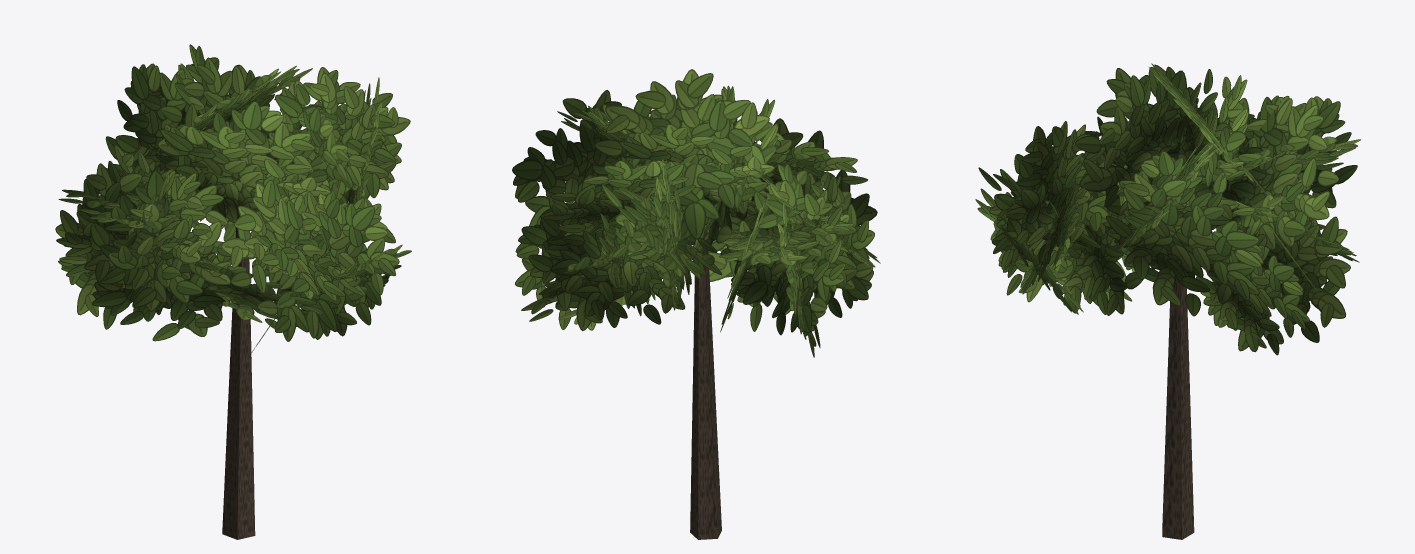
The model's file is quercia_2_leggero.glb.
3 views of the same model, side by side, from view 1: azimuth 30°, elevation 25°; view 2: azimuth 150°, elevation 25°; view 3: azimuth 270°, elevation 25° (orthographic). The views are drawn at different scales.
Parts seen in each view (by area): view 1: quercia_2_leggero; view 2: quercia_2_leggero; view 3: quercia_2_leggero.
Part boxes in pixels (bbox=[...]): quercia_2_leggero: bbox=[55, 44, 411, 539]; quercia_2_leggero: bbox=[512, 69, 880, 539]; quercia_2_leggero: bbox=[975, 63, 1360, 539].
Size of the model in its own units: 12.46 by 15.83 by 12.67.
Materials: 2 (2 with a texture image).
